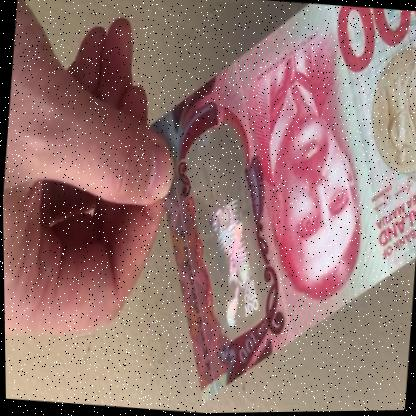100F: (180, 132, 273, 337)
